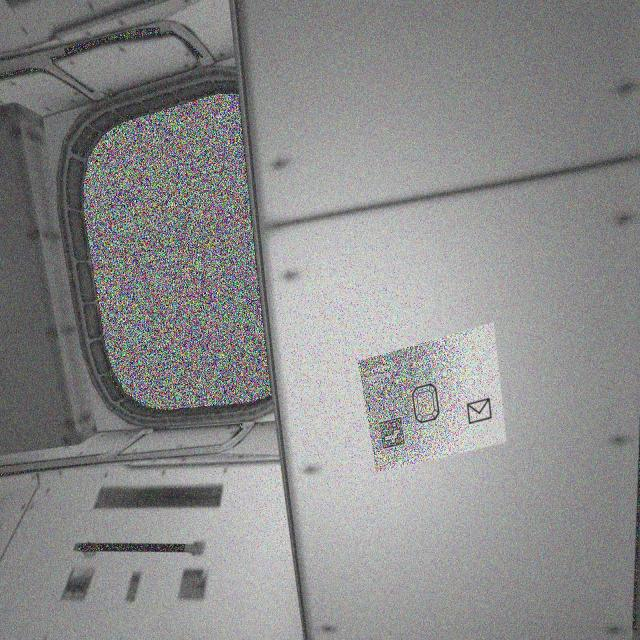emerald: (412, 371, 449, 434)
letter: (460, 391, 500, 429)
